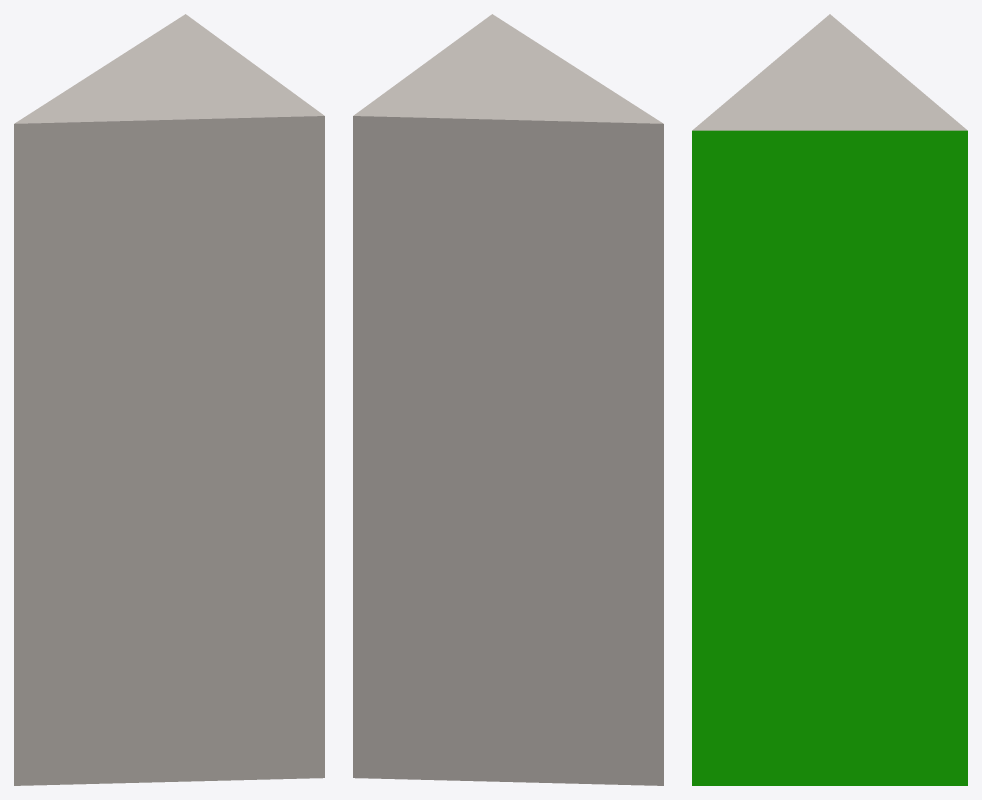
Rendered from trianglePole(1).fbx.
3 renders of one model, left to right at view 1: azimuth 30°, elevation 25°; view 2: azimuth 150°, elevation 25°; view 3: azimuth 270°, elevation 25°, orthographic.
Visible parts, largest first — view 1: Plane; view 2: Plane; view 3: Plane.
Boxes of the visible parts, x1=… form: Plane: x1=14, y1=14, x2=324, y2=785; Plane: x1=353, y1=14, x2=663, y2=785; Plane: x1=692, y1=14, x2=967, y2=785.
Bounding box in the file's own units: 200 × 524 × 200.
